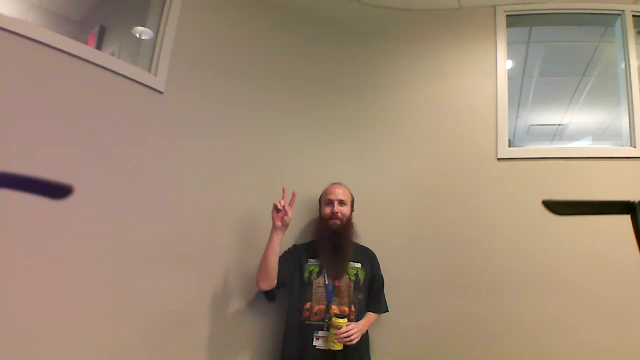peace: (262, 178, 302, 235)
